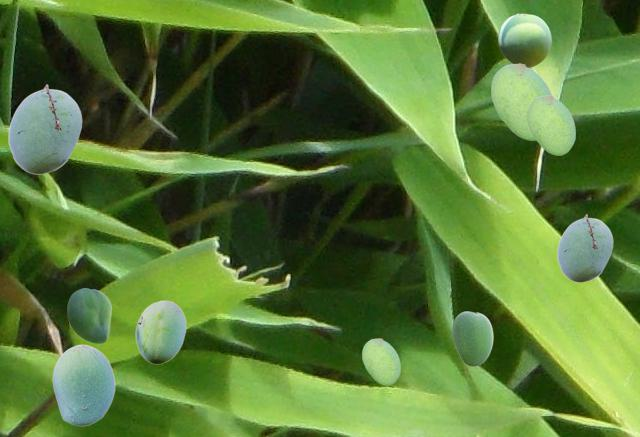green_mango: (8, 84, 81, 173), (52, 344, 114, 425), (491, 63, 552, 139), (557, 214, 612, 281), (135, 300, 185, 363), (498, 13, 550, 67), (527, 95, 574, 154), (67, 288, 110, 342), (452, 311, 492, 365), (362, 338, 399, 384)
